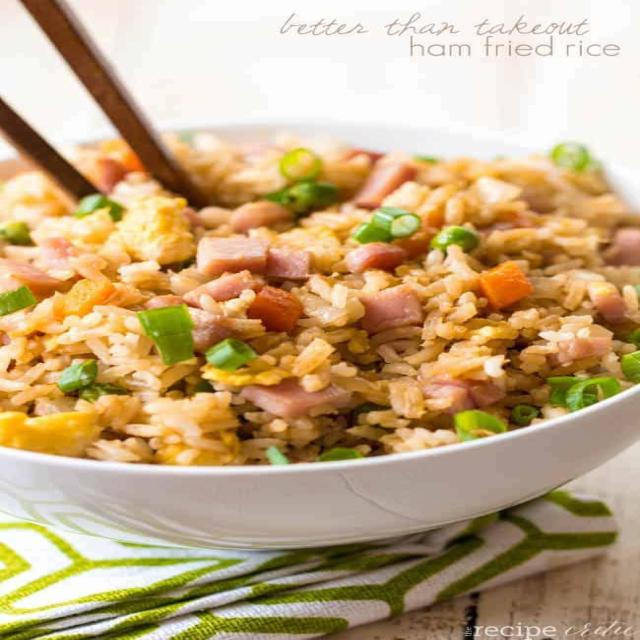Nasi Goreng: (1, 134, 637, 464)
